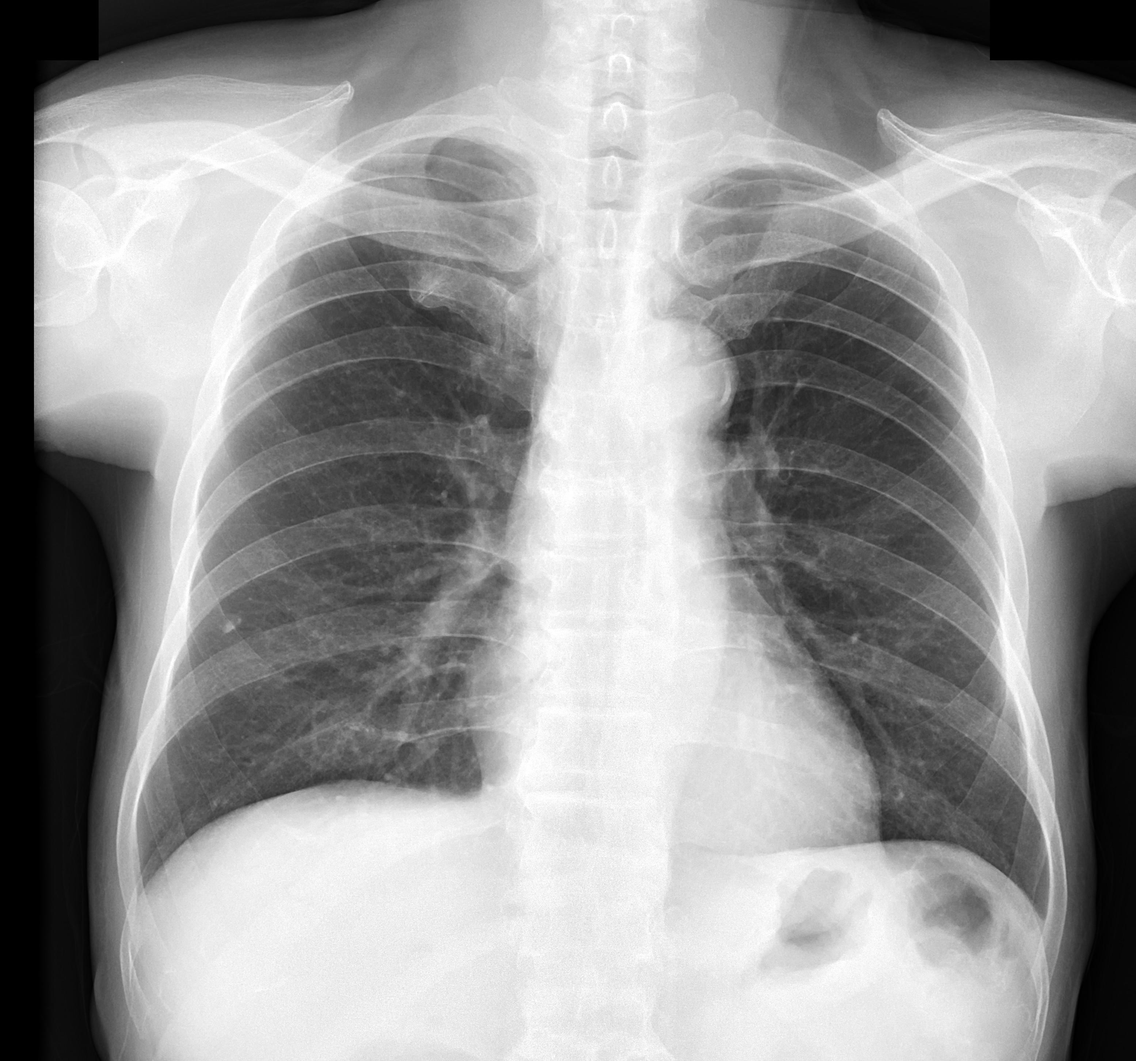Aortic enlargement: (615, 309, 735, 456)
